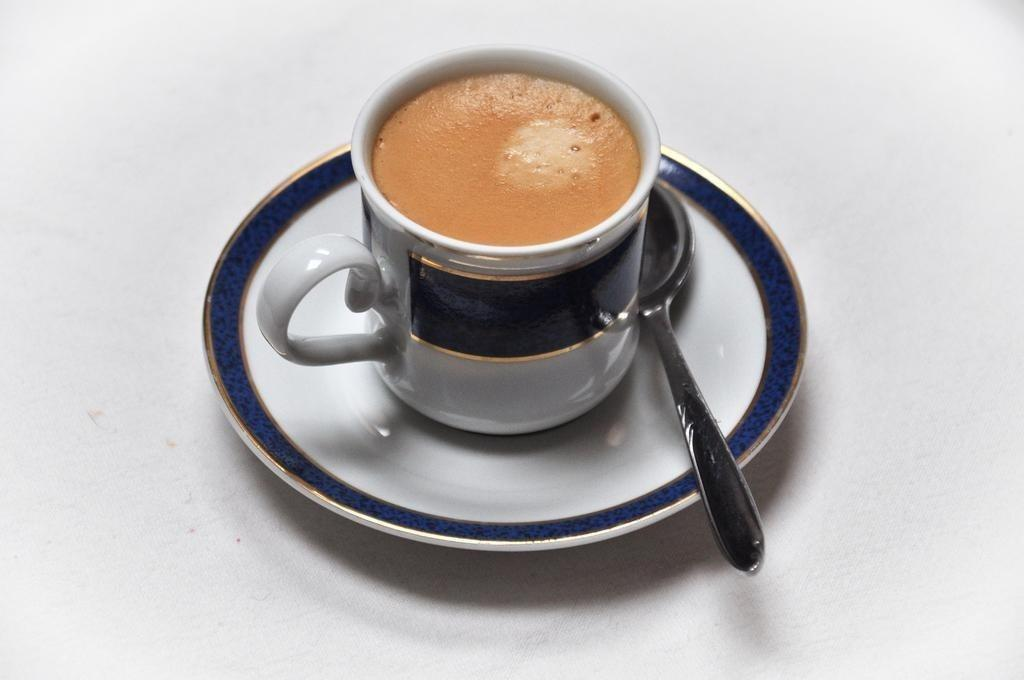cup-handle: (254, 43, 661, 438)
